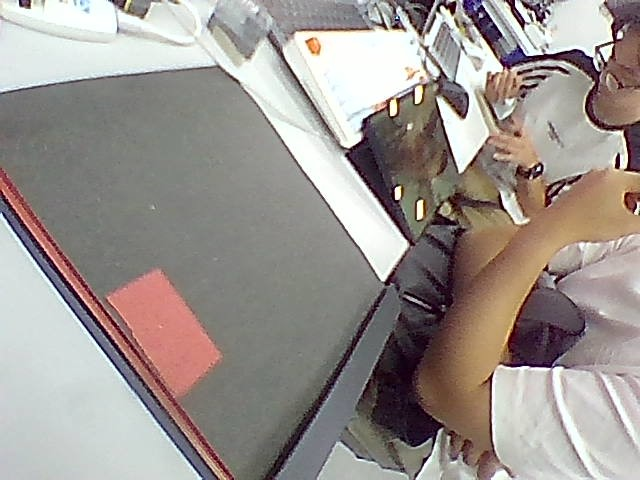card: (108, 270, 219, 395)
